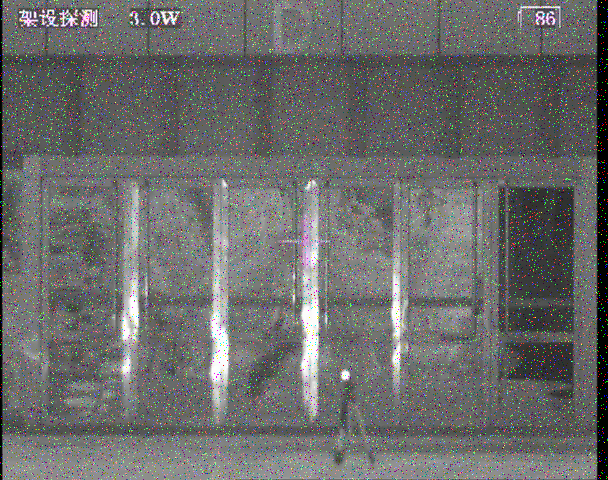my: (339, 369, 351, 382)
